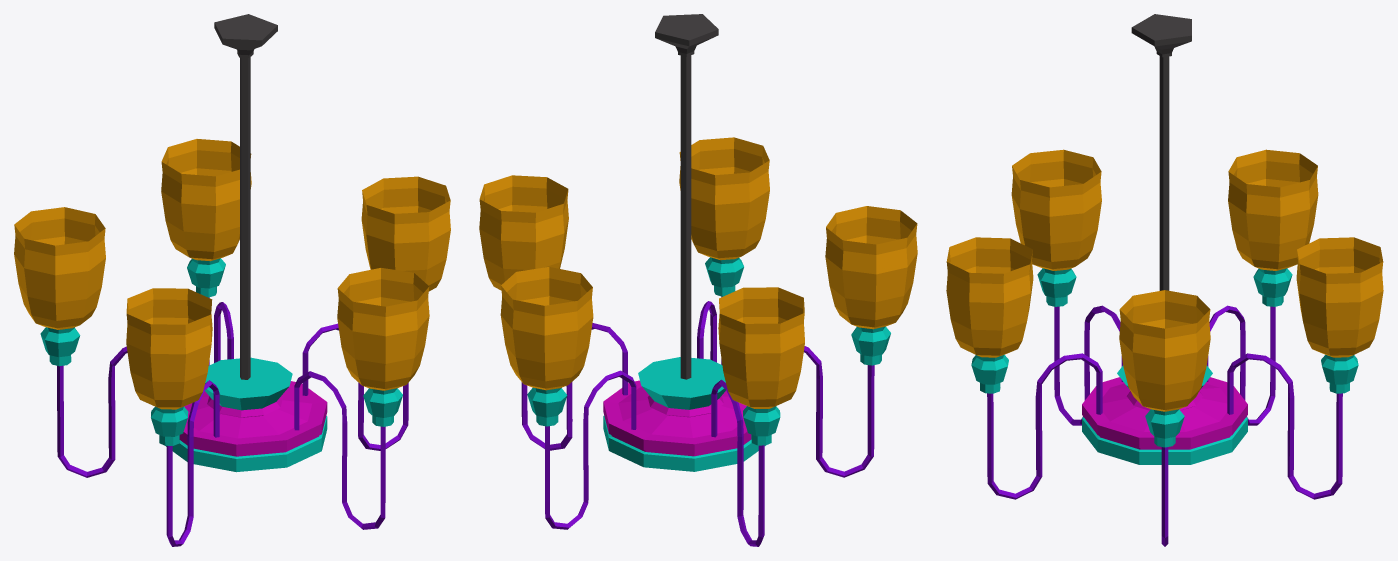
Rendered from Żyrandol_Anona.fbx.
The picture shows the model from 3 angles, left to right: view 1: azimuth 30°, elevation 25°; view 2: azimuth 150°, elevation 25°; view 3: azimuth 270°, elevation 25°; orthographic projection.
Parts seen in each view (by area): view 1: Żyrandol_Anona; view 2: Żyrandol_Anona; view 3: Żyrandol_Anona.
Boxes of the visible parts, left/top/right/bottom form: Żyrandol_Anona: left=14, top=14, right=450, bottom=546; Żyrandol_Anona: left=479, top=14, right=917, bottom=546; Żyrandol_Anona: left=946, top=14, right=1383, bottom=546.
Bounding box in the file's own units: 78.9 × 92.79 × 81.36.
